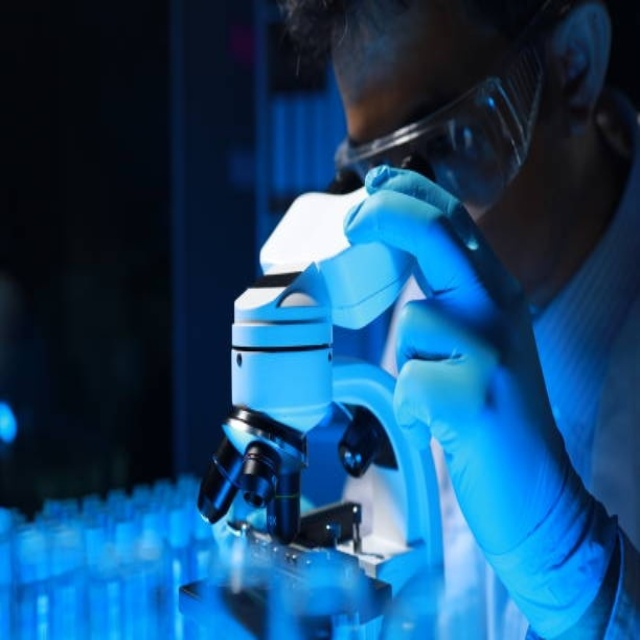Gafas: (339, 8, 562, 208)
Guantes: (344, 167, 619, 637)
